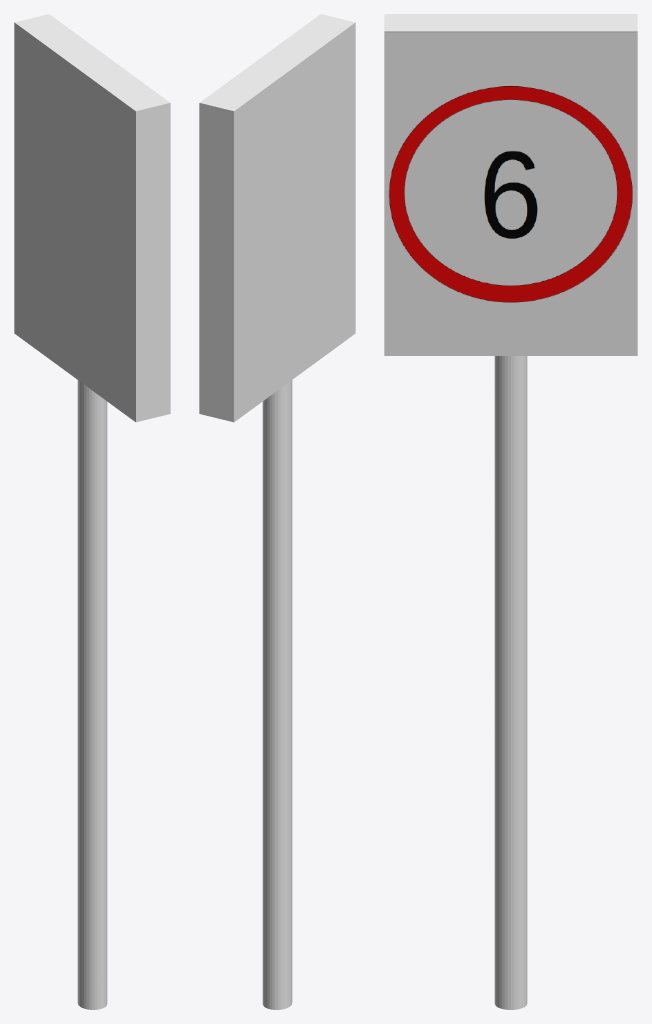
The model's file is sign6.dae.
3 views of the same model, side by side, from view 1: azimuth 30°, elevation 25°; view 2: azimuth 150°, elevation 25°; view 3: azimuth 270°, elevation 25° (orthographic). The views are drawn at different scales.
Parts seen in each view (by area): view 1: Cube; view 2: Cube; view 3: Cube.
Part boxes in pixels (left/top/right/bottom): Cube: left=14, top=14, right=170, bottom=1009; Cube: left=199, top=14, right=355, bottom=1009; Cube: left=384, top=14, right=637, bottom=1009.
Bounding box in the file's own units: 0.0692 × 0.42 × 1.8.
